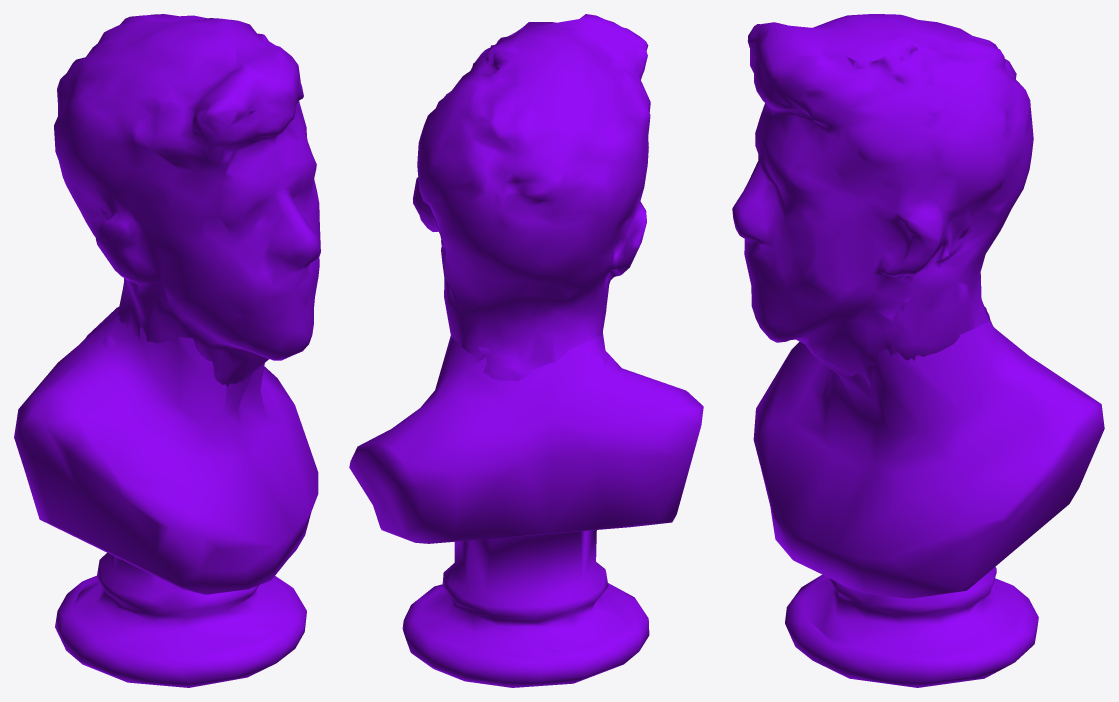
Rendered from Statue_Lukas_2.glb.
3 renders of one model, left to right at view 1: azimuth 30°, elevation 25°; view 2: azimuth 150°, elevation 25°; view 3: azimuth 270°, elevation 25°, orthographic. The views are drawn at different scales.
Parts seen in each view (by area): view 1: Lukas scan; view 2: Lukas scan; view 3: Lukas scan.
Boxes of the visible parts, x1=… form: Lukas scan: x1=14, y1=14, x2=320, y2=687; Lukas scan: x1=349, y1=14, x2=703, y2=687; Lukas scan: x1=732, y1=14, x2=1104, y2=687.
Bounding box in the file's own units: 0.1131 × 0.2122 × 0.1161.
